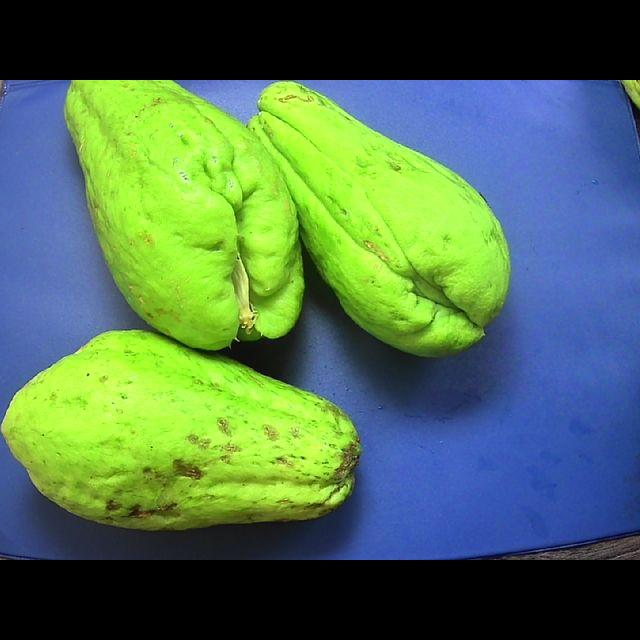chayote: (248, 81, 509, 355), (2, 330, 360, 529), (64, 80, 303, 350)
